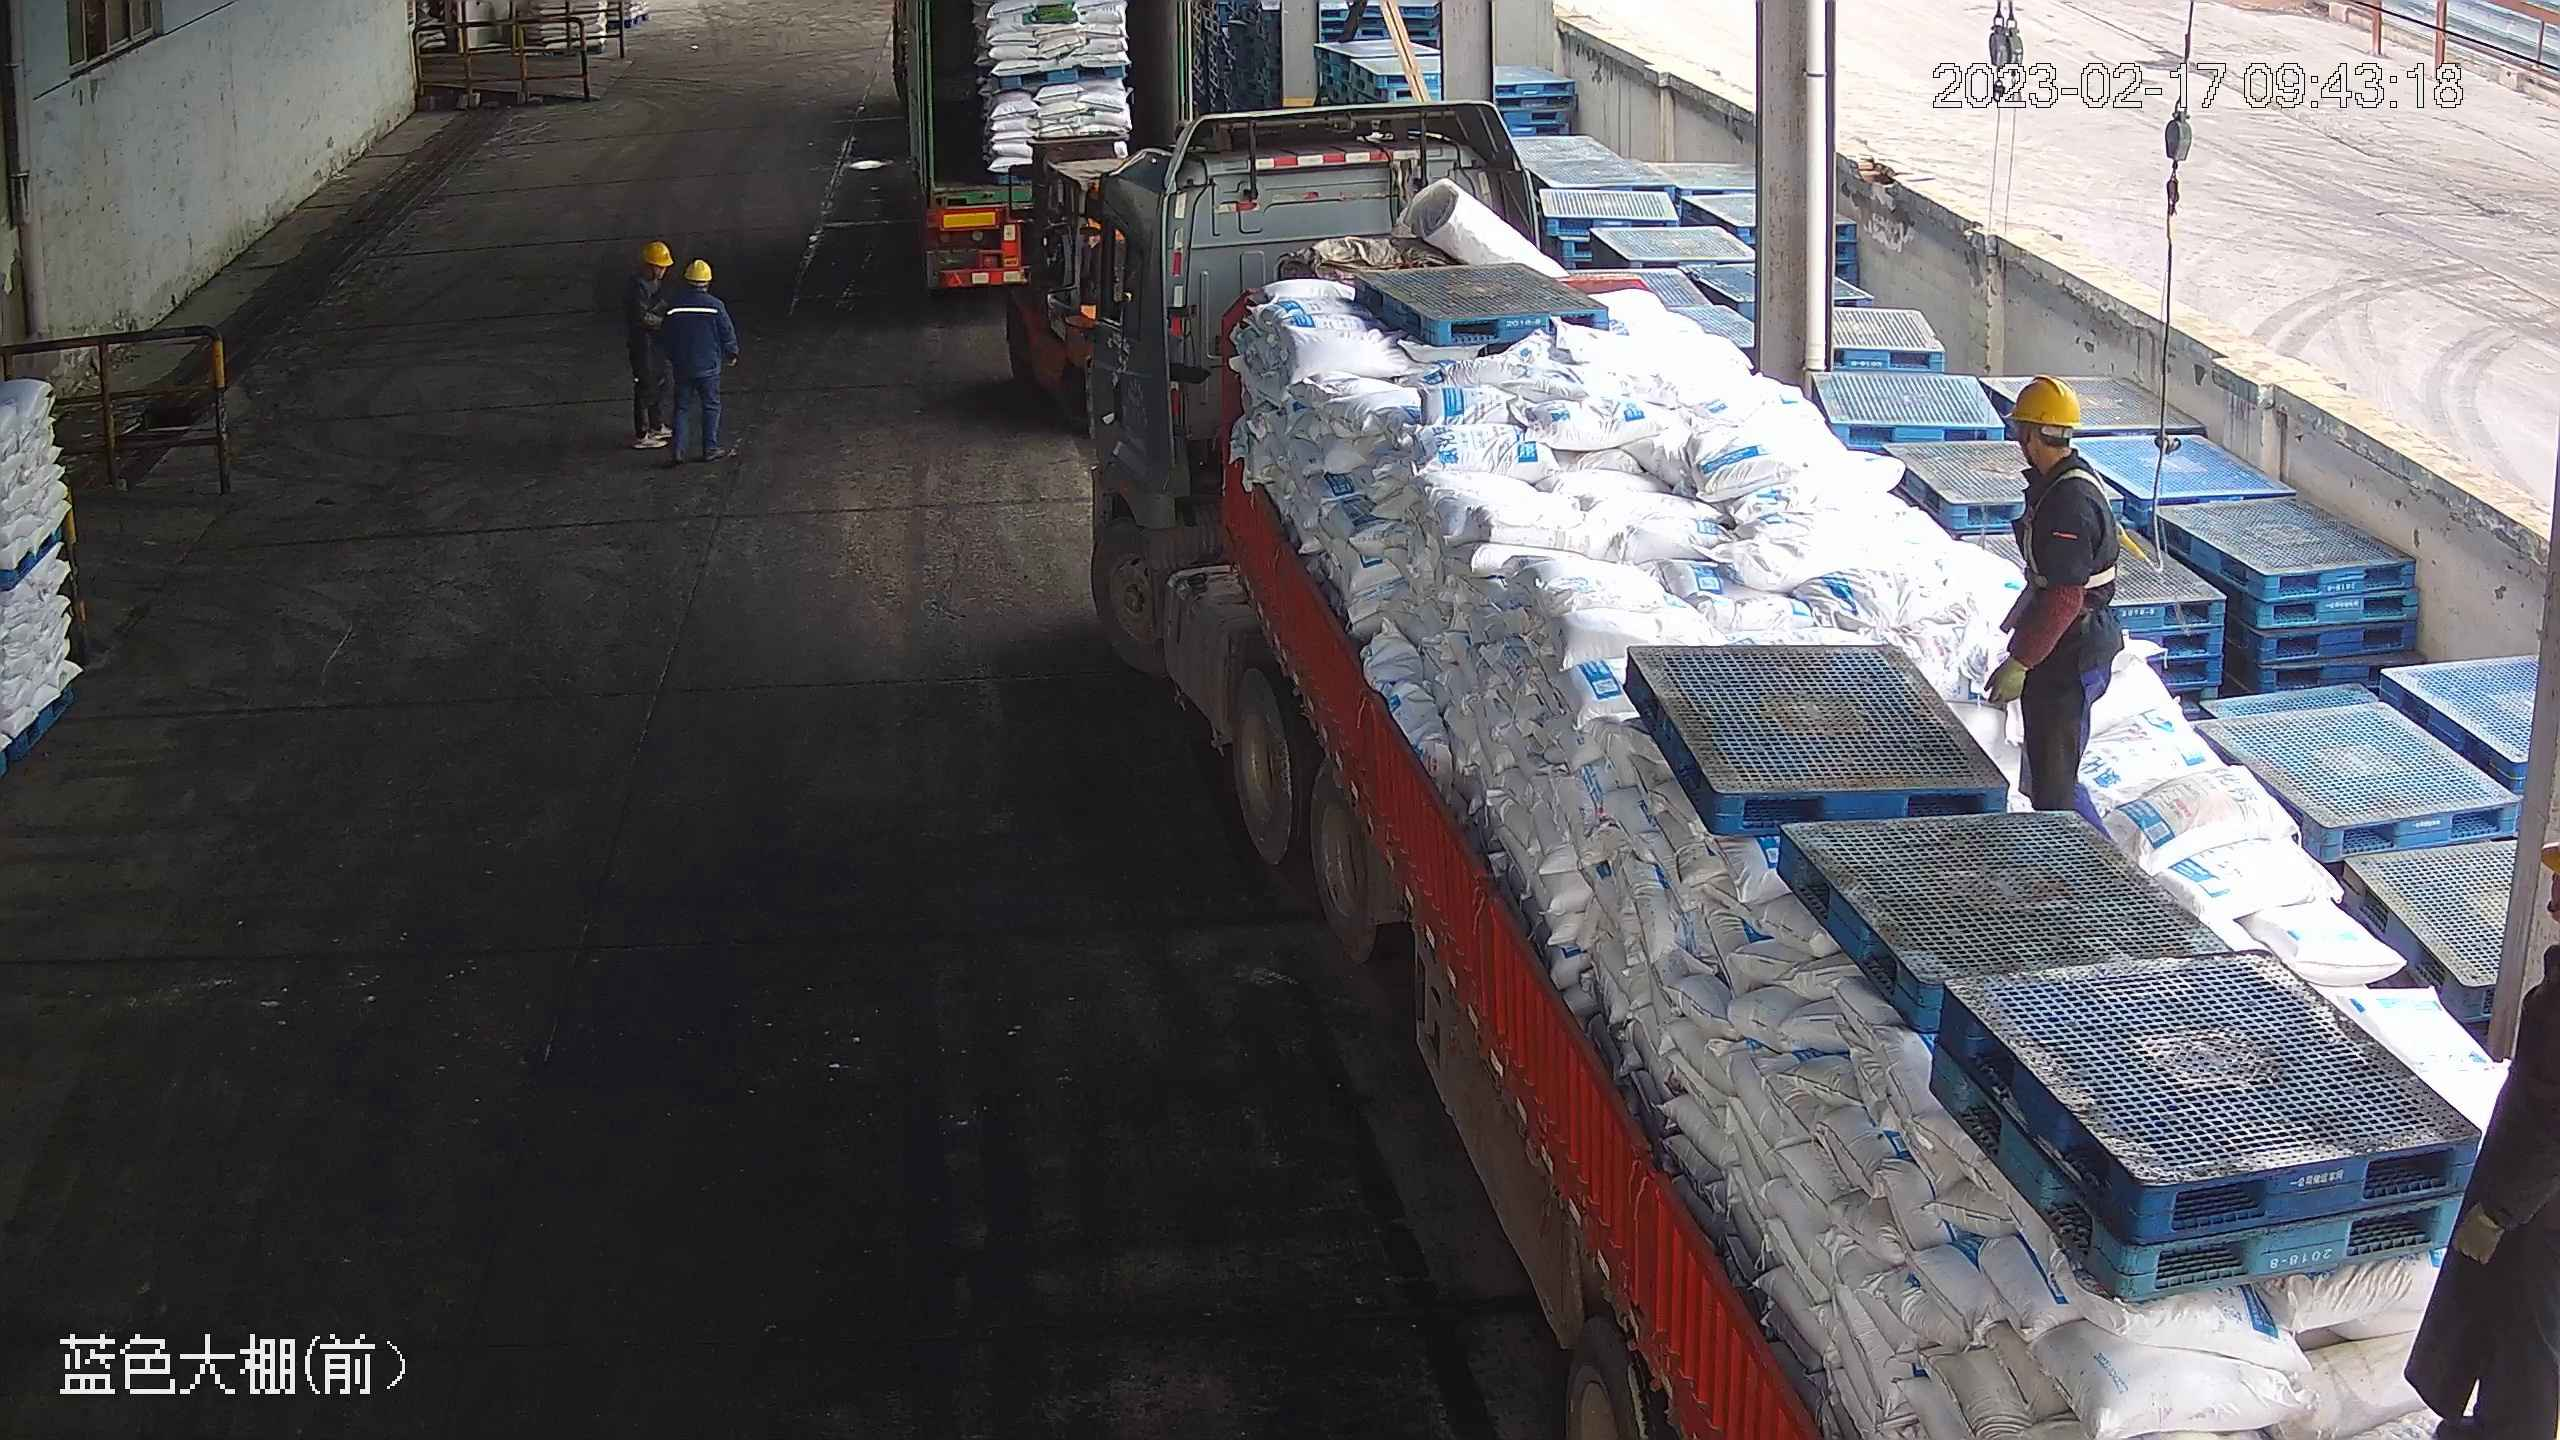belt: (2035, 462, 2141, 588)
head: (2004, 373, 2117, 526), (660, 257, 731, 321), (624, 239, 678, 307)
helmet: (2003, 372, 2083, 426), (637, 238, 672, 265), (682, 256, 715, 283)
people: (1979, 376, 2128, 819), (653, 254, 745, 464), (623, 238, 679, 452)
truck: (1084, 99, 2560, 1440), (886, 3, 1186, 292)
